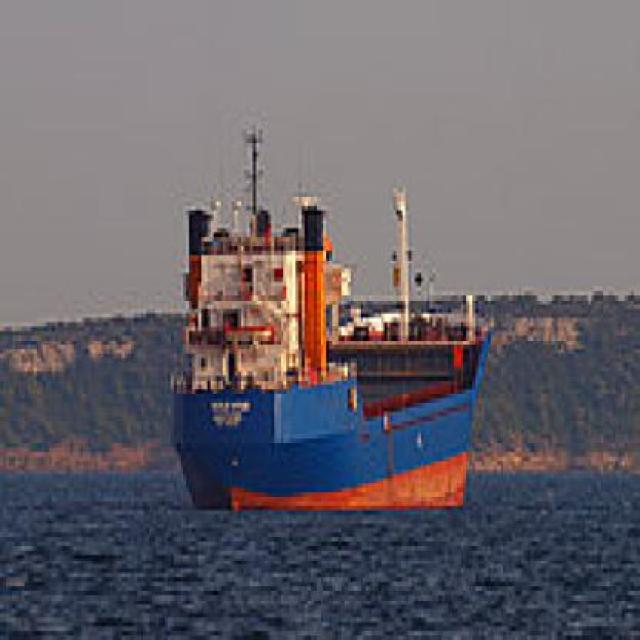container: (163, 108, 501, 529)
